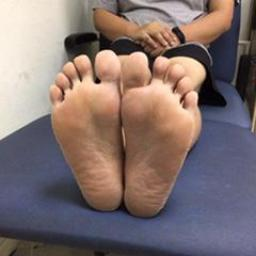Plantar View -Both Feet-: (43, 44, 212, 226)
